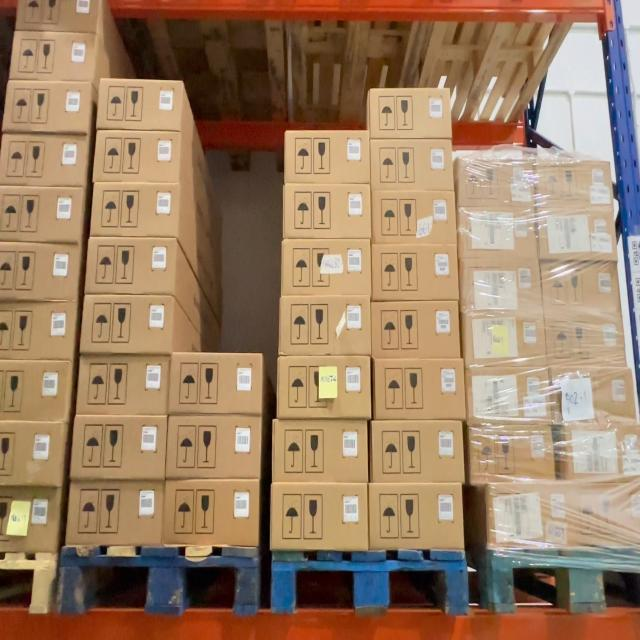box: (269, 482, 369, 550), (368, 483, 465, 552), (164, 479, 263, 546), (66, 483, 165, 546), (272, 419, 369, 483), (70, 417, 167, 481), (370, 421, 466, 485), (165, 416, 264, 478), (487, 479, 579, 545), (276, 356, 372, 419), (170, 352, 265, 415), (373, 358, 466, 421), (278, 296, 371, 356), (76, 357, 171, 415), (85, 238, 178, 296), (80, 297, 173, 355), (371, 300, 461, 359), (281, 239, 372, 297), (469, 425, 556, 485), (550, 366, 637, 424), (465, 368, 552, 426), (282, 182, 371, 238), (370, 188, 457, 244), (371, 246, 459, 300), (284, 128, 370, 183), (90, 185, 179, 238), (462, 312, 547, 367), (96, 79, 184, 132), (545, 309, 628, 365), (93, 131, 181, 183), (2, 82, 91, 133), (458, 256, 542, 310), (537, 208, 618, 262), (367, 88, 452, 139), (565, 422, 640, 479), (540, 258, 622, 310), (457, 207, 539, 259), (370, 139, 453, 190), (10, 32, 96, 81), (534, 157, 615, 208), (457, 156, 534, 209)
